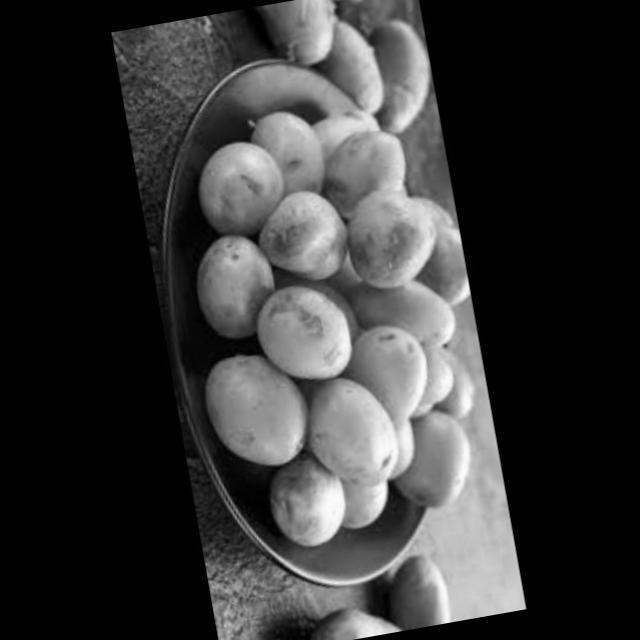potato: (186, 350, 322, 480), (180, 225, 297, 352), (297, 369, 409, 501), (251, 278, 366, 399), (340, 177, 456, 296), (350, 10, 446, 150), (383, 404, 490, 528), (180, 132, 292, 248), (338, 314, 444, 434), (255, 187, 362, 301), (252, 105, 346, 226), (264, 448, 359, 558), (352, 266, 466, 356), (318, 10, 392, 128), (322, 123, 416, 215), (370, 540, 462, 633), (246, 0, 357, 68), (419, 344, 491, 434), (284, 591, 407, 640), (326, 466, 406, 540)
